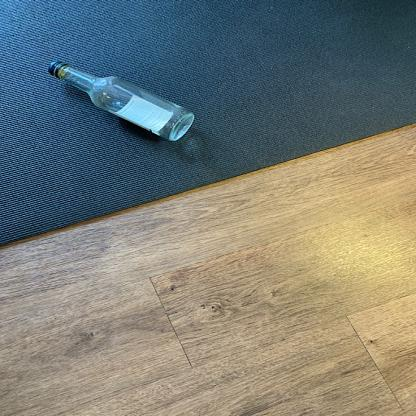trash: (45, 61, 197, 145)
